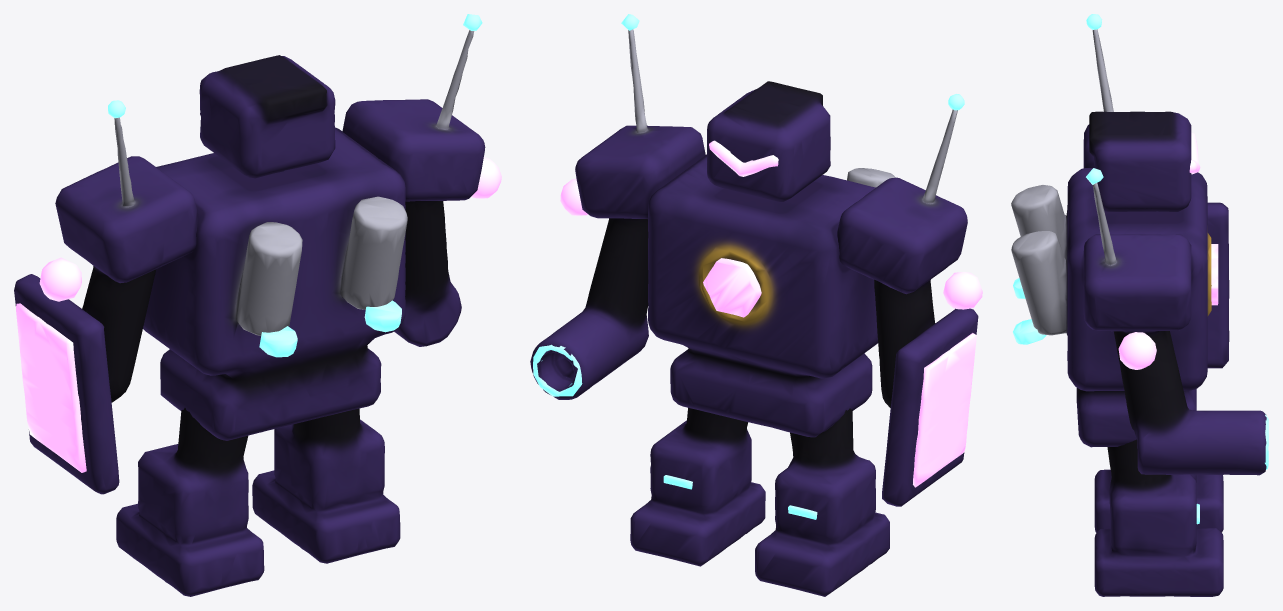
The model's file is Mekhar.glb.
3 views of the same model, side by side, from view 1: azimuth 30°, elevation 25°; view 2: azimuth 150°, elevation 25°; view 3: azimuth 270°, elevation 25° (orthographic). The views are drawn at different scales.
Parts seen in each view (by area): view 1: Body, ArmL, LegL, ArmR, LegR, Head, ArmL_Glow2, Orbit_Glow, Body_Glow2; view 2: Body, ArmL, ArmR, LegL, LegR, Head, ArmL_Glow2, Body_Glow, Orbit_Glow, ArmR_Glow, Head_Glow; view 3: Body, ArmR, LegR, Head, ArmL, LegL, Orbit_Glow, Body_Glow2, Body_Glow, ArmR_Glow.
Boxes of the visible parts, x1,y1,x2,y2 form: Body: (143, 127, 407, 440); ArmL: (14, 117, 198, 494); LegL: (116, 408, 264, 596); ArmR: (342, 30, 485, 346); LegR: (252, 408, 400, 563); Head: (199, 55, 335, 178); ArmL_Glow2: (16, 303, 86, 472); Orbit_Glow: (39, 157, 501, 301); Body_Glow2: (259, 300, 401, 357); Body: (648, 154, 895, 437); ArmL: (837, 109, 978, 506); ArmR: (530, 29, 705, 399); LegL: (755, 408, 889, 596); LegR: (630, 407, 765, 566); Head: (707, 81, 830, 201); ArmL_Glow2: (913, 333, 976, 487); Body_Glow: (703, 258, 761, 317); Orbit_Glow: (560, 178, 982, 309); ArmR_Glow: (533, 14, 639, 396); Head_Glow: (709, 140, 778, 176); Body: (1011, 168, 1211, 447); ArmR: (1083, 183, 1266, 475); LegR: (1094, 439, 1223, 596); Head: (1089, 111, 1191, 211); ArmL: (1083, 29, 1229, 368); LegL: (1094, 469, 1223, 532); Orbit_Glow: (1118, 332, 1156, 369); Body_Glow2: (1013, 278, 1046, 344); Body_Glow: (1211, 244, 1218, 305); ArmR_Glow: (1086, 168, 1268, 469).
Size of the model in its own units: 3.41 by 3.71 by 1.88.
Materials: 10 (1 with a texture image).
